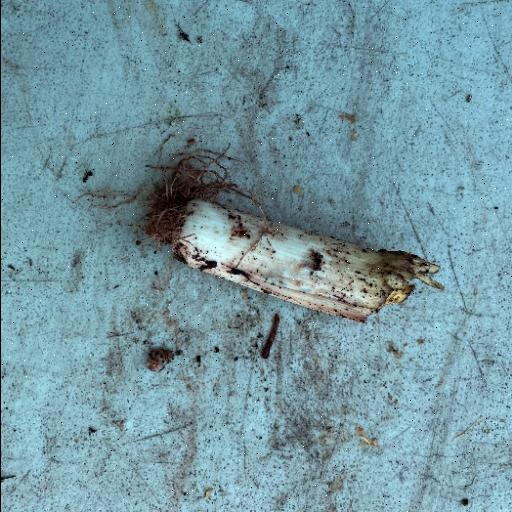Waste: (167, 196, 445, 324)
